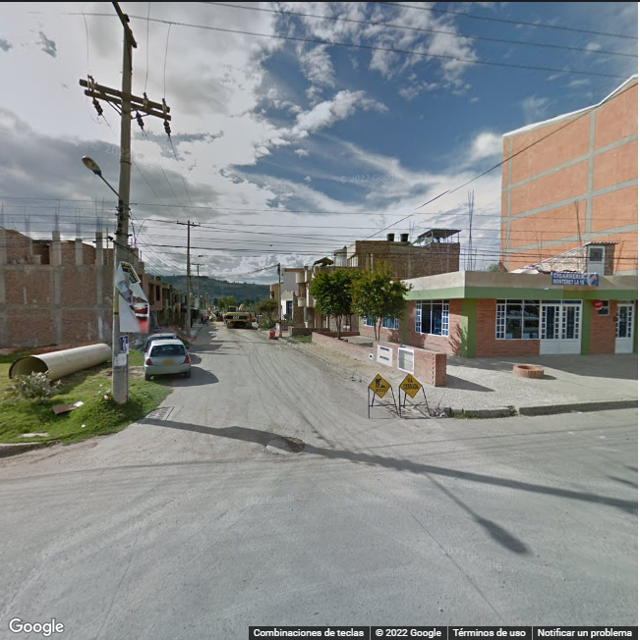D00: (405, 507, 508, 625), (93, 544, 133, 639)
